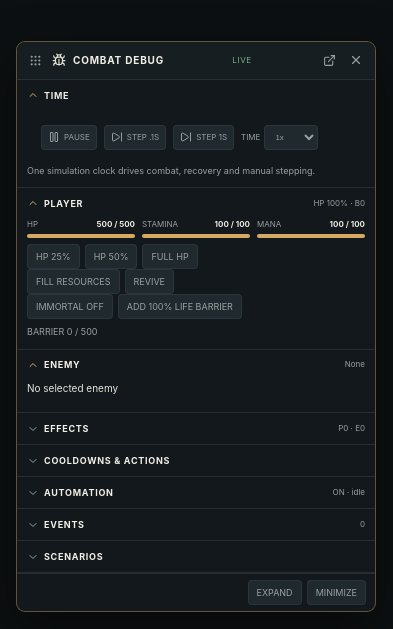
Scenario: Developer Toolkit V9.3.1 selector stability › opens Dock Effects safely with no selected enemy
Click the button with class "debug-dock-section-header" showing "EFFECTS P0 · E0".
click(67, 428)  # box [17, 413, 375, 444]
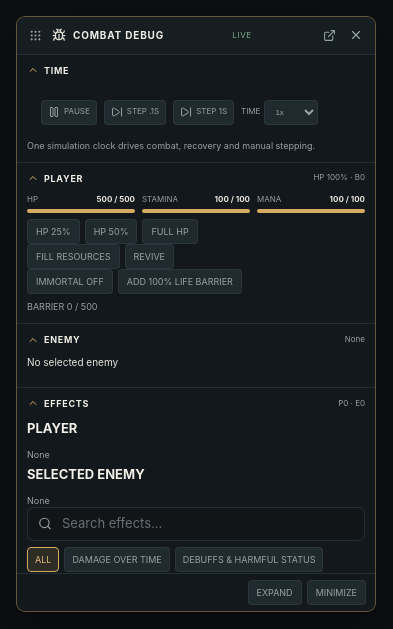
Result: the field labelled "Search effects" is shown at [60, 513, 354, 534]
